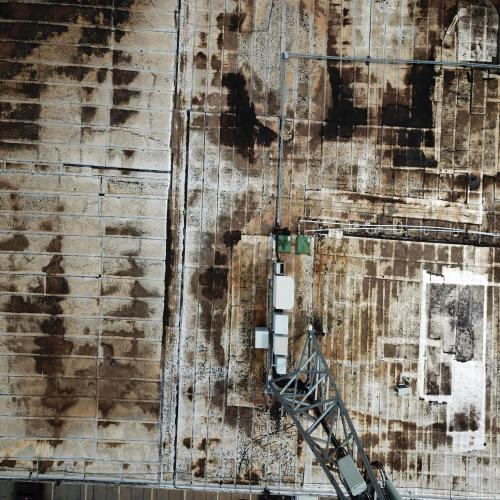conde: (394, 383, 415, 398)
